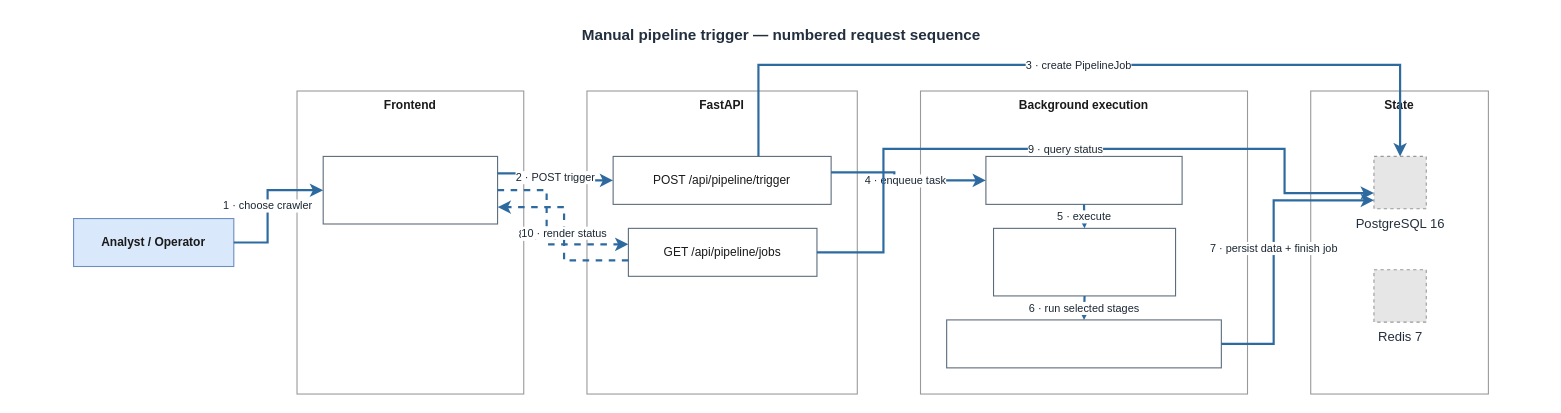
Image size: 1561x413. Some labels were removed from this diagram. Grey dashed boxes stand in for pictures. The centre of each missing label's shape, as x and y in pixels:
"_run_crawler() selected stage or all" belongs at (1084,261).
"Crawlers → metrics → features → ML" belongs at (1083,343).
"FastAPI BackgroundTasks" belongs at (1083,179).
"React Pipeline page Trigger + job status" belongs at (410,189).
